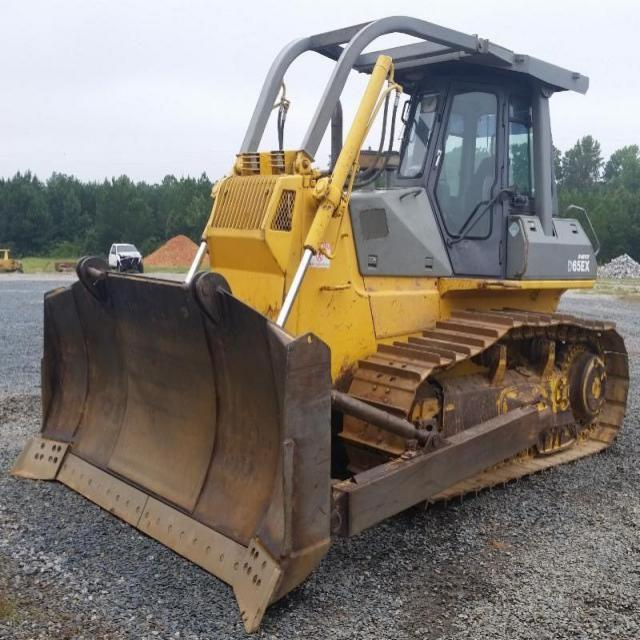Bulldozer: (30, 11, 639, 610)
